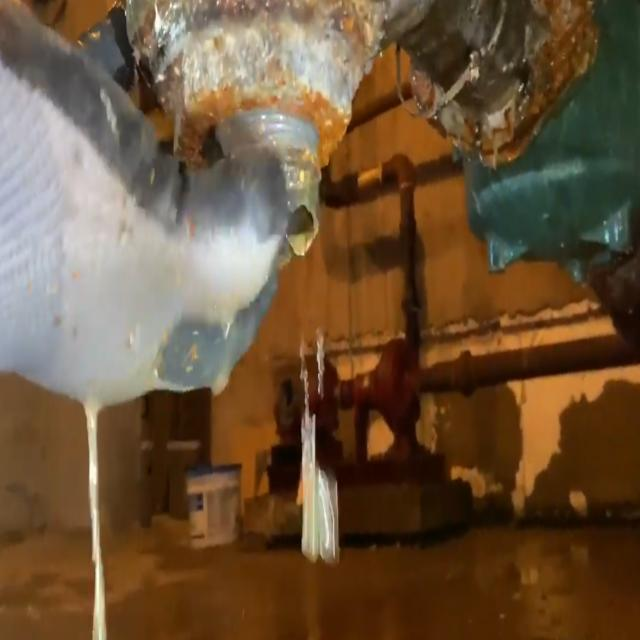leak: (301, 400, 339, 562), (84, 402, 106, 639)
